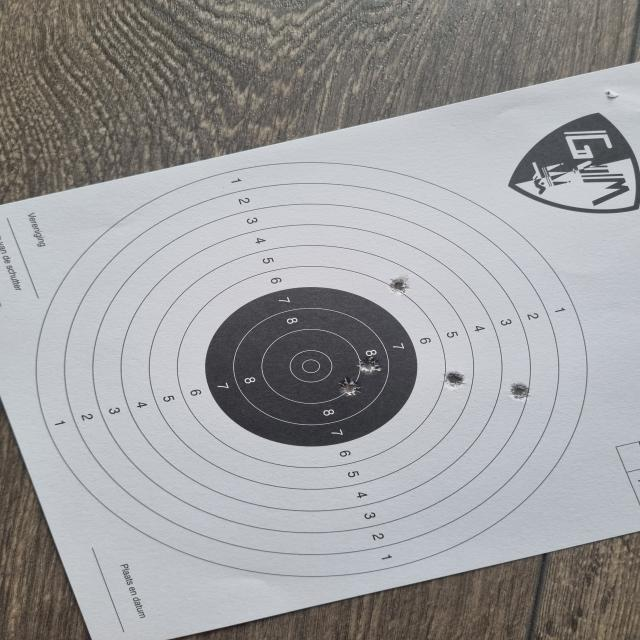3: (509, 384, 531, 399)
6: (443, 372, 466, 387), (390, 279, 409, 293)
9: (337, 377, 362, 395), (356, 358, 382, 372)
Target: (32, 160, 590, 576)
black_contour: (207, 286, 419, 447)
